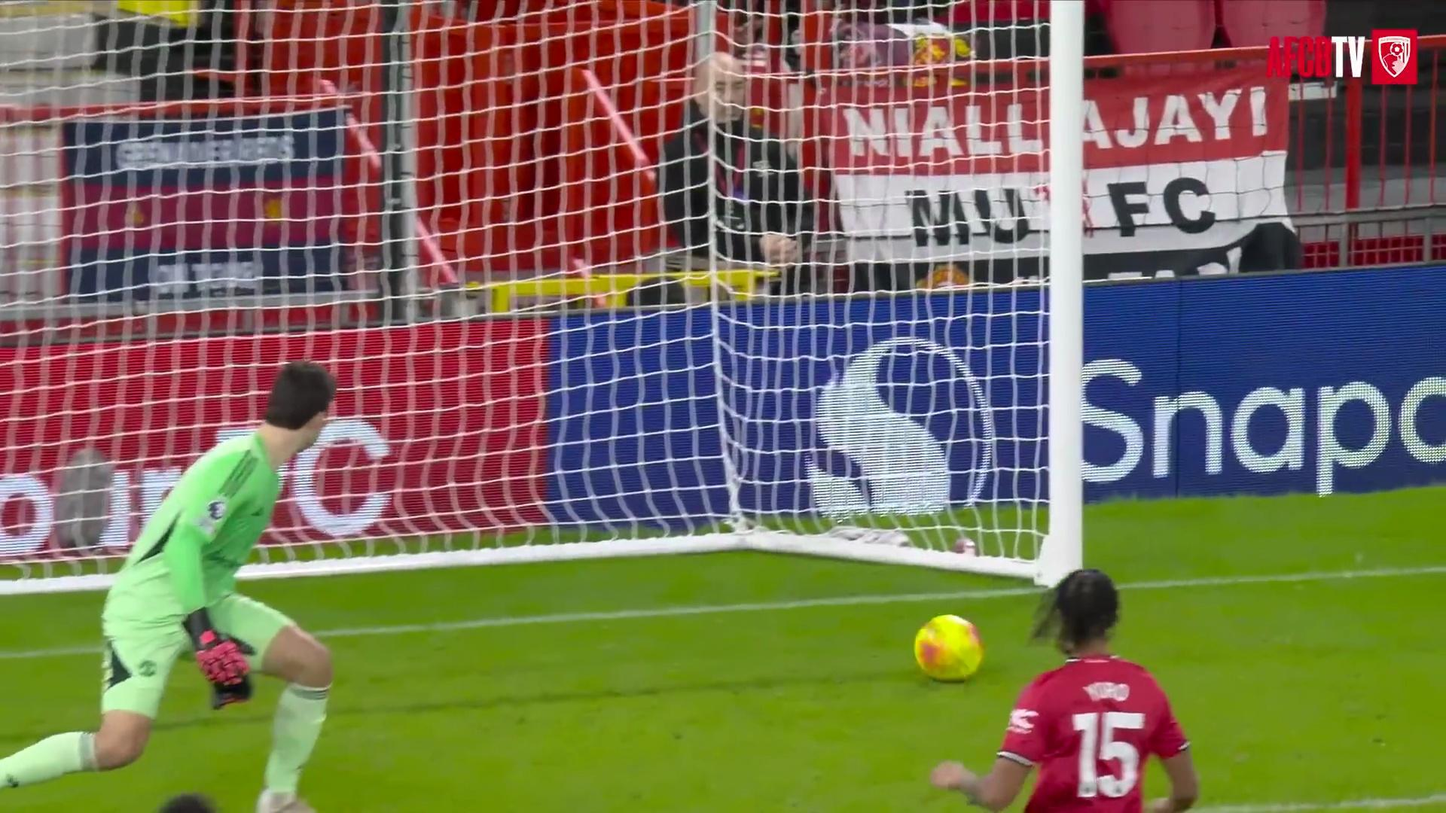football: (914, 615, 983, 681)
player: (0, 362, 335, 812), (931, 569, 1197, 812), (158, 794, 218, 812)
